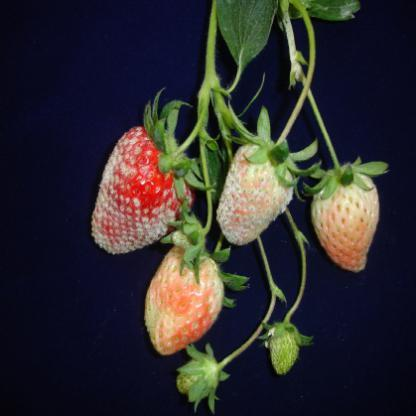Strawberry_Powdery_Mildew_Fruit: (90, 126, 196, 255), (214, 139, 295, 247)
